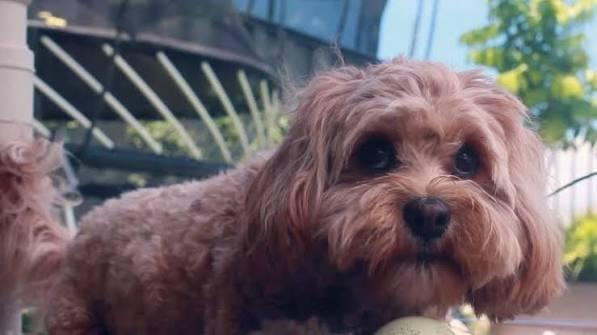adult_dog: (0, 54, 567, 335)
